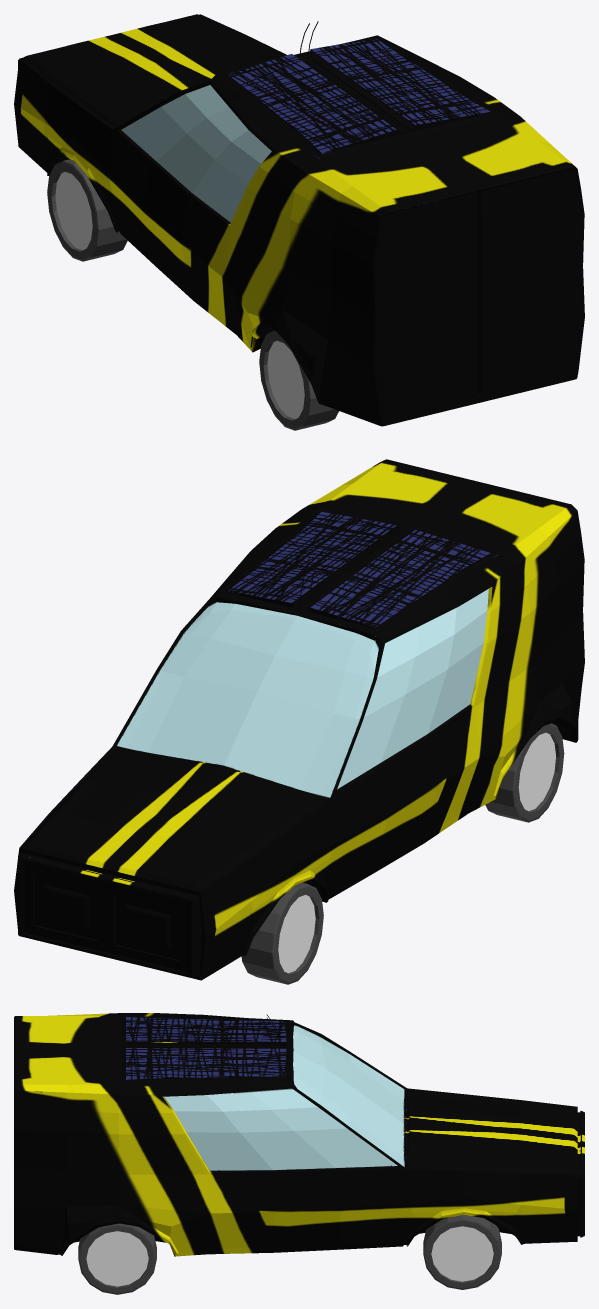
Rendered from Car 1.fbx.
3 views of the same model, one above another, from view 1: azimuth 30°, elevation 25°; view 2: azimuth 150°, elevation 25°; view 3: azimuth 270°, elevation 25° (orthographic). The views are drawn at different scales.
Visible parts, largest first — view 1: Car, Wheel_Front, Wheel_Back; view 2: Car, Wheel_Front, Wheel_Back; view 3: Car, Wheel_Front, Wheel_Back.
Boxes of the visible parts, x1,y1,x2,y2 form: Car: (14, 14, 584, 426); Wheel_Front: (47, 159, 127, 261); Wheel_Back: (259, 330, 338, 430); Car: (14, 459, 584, 980); Wheel_Front: (241, 882, 323, 984); Wheel_Back: (485, 723, 564, 822); Car: (14, 1013, 584, 1256); Wheel_Front: (423, 1215, 501, 1289); Wheel_Back: (78, 1223, 156, 1294).
Size of the model in its own units: 276 by 293 by 658.
